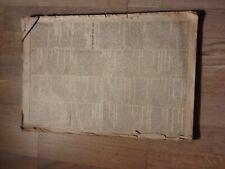paper: (23, 13, 199, 138)
